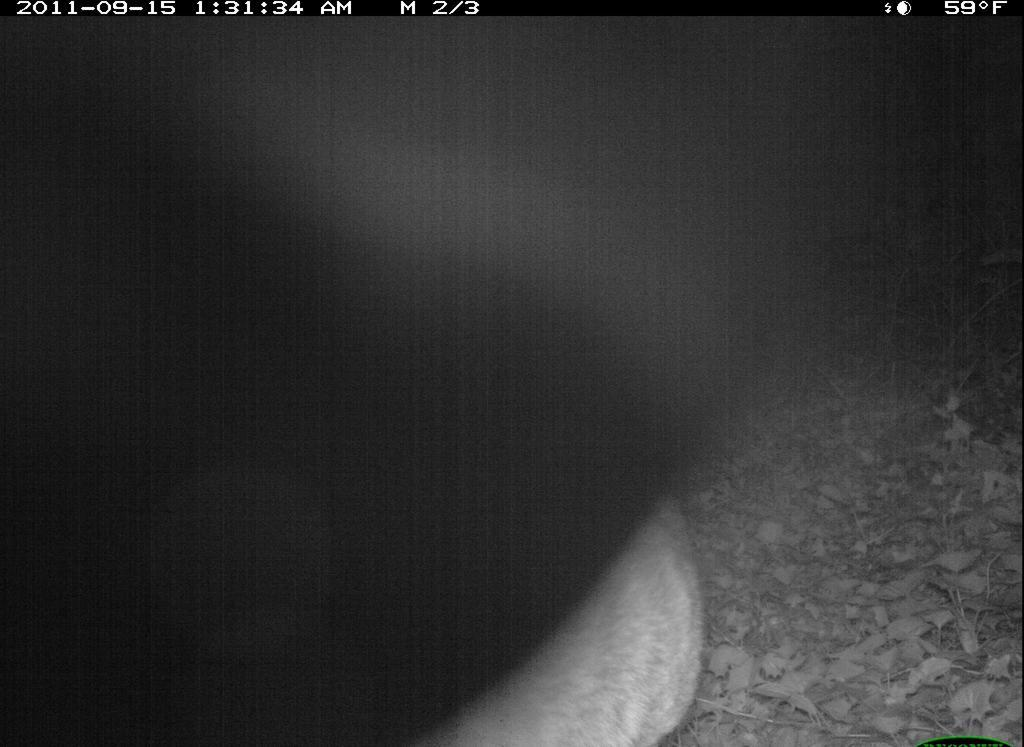coyote: (405, 488, 716, 743)
